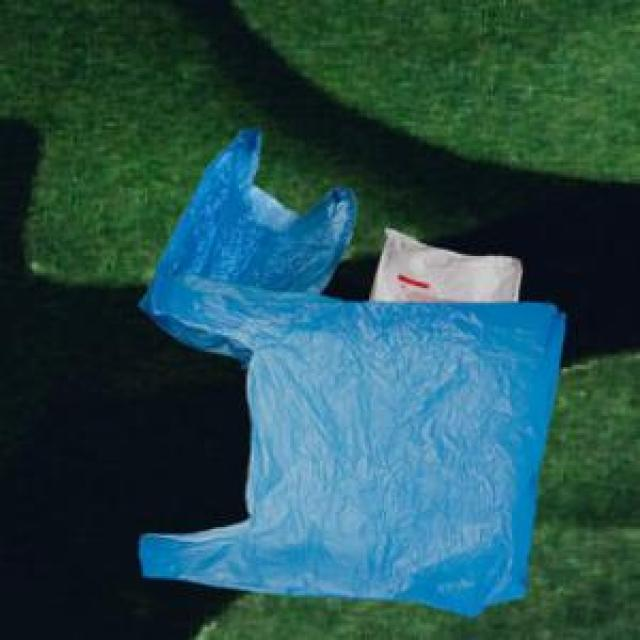plastic: (129, 111, 581, 623)
